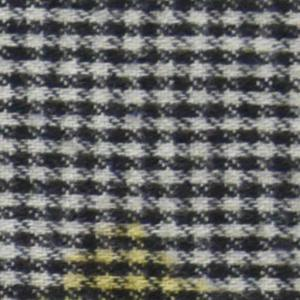Stain: (59, 220, 213, 300)
